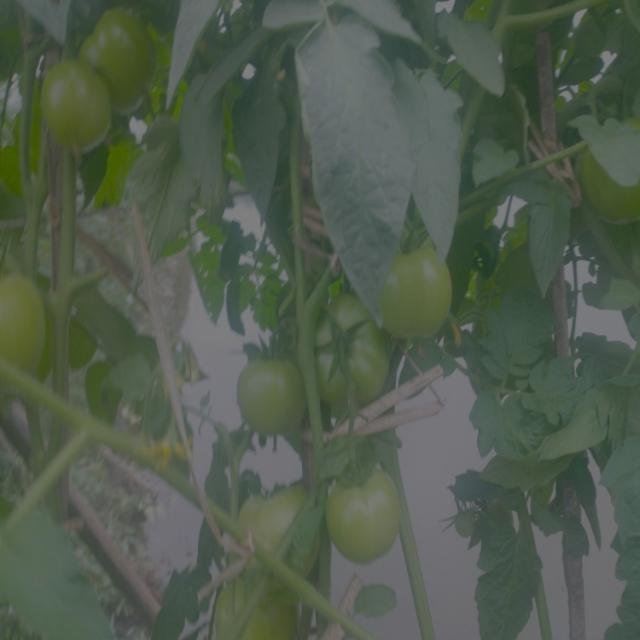tomato: (311, 295, 392, 414), (378, 232, 455, 343), (85, 3, 164, 109), (33, 52, 112, 153), (331, 456, 401, 565), (237, 477, 315, 572), (237, 342, 304, 434), (219, 571, 296, 640), (1, 269, 39, 394), (581, 146, 640, 225), (69, 316, 91, 375)
